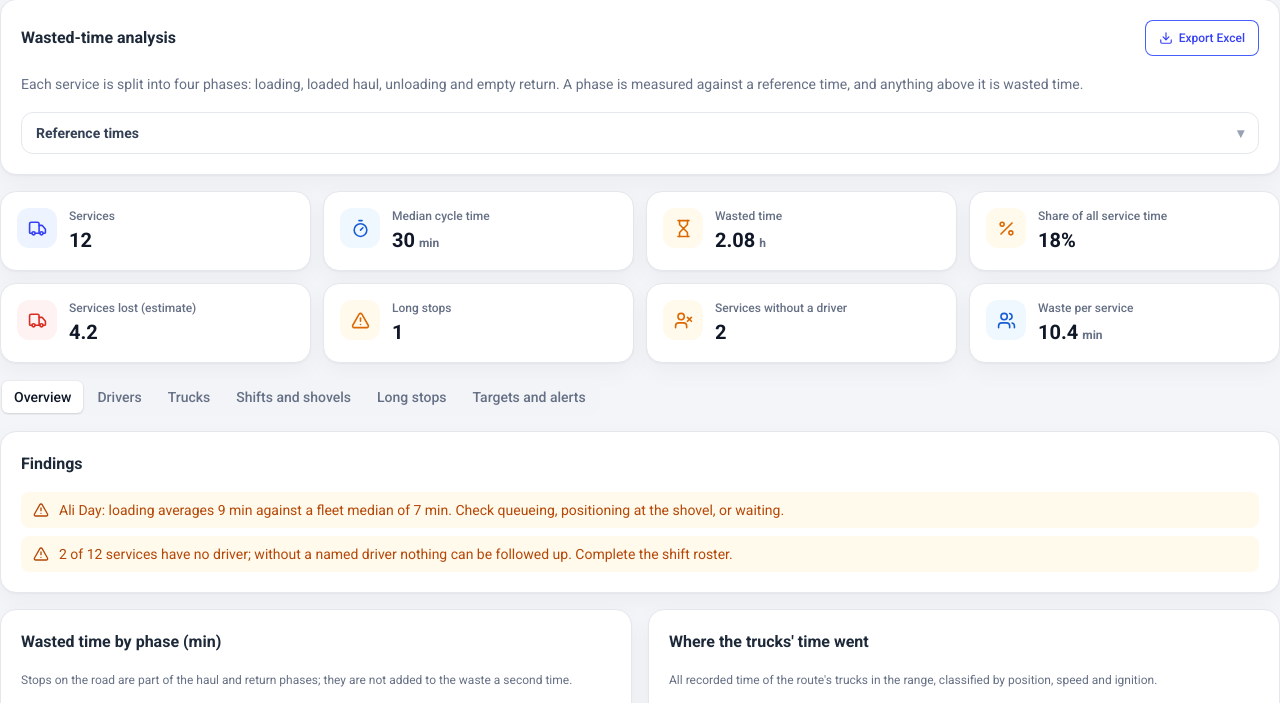
it: live over-limit alerts › suggests the p75 limits and shows what is already on
Click the radio button labelled "Targets and alerts" at coordinates (529, 397), box x1=460 y1=381 x2=598 y2=413
(page scrolled)
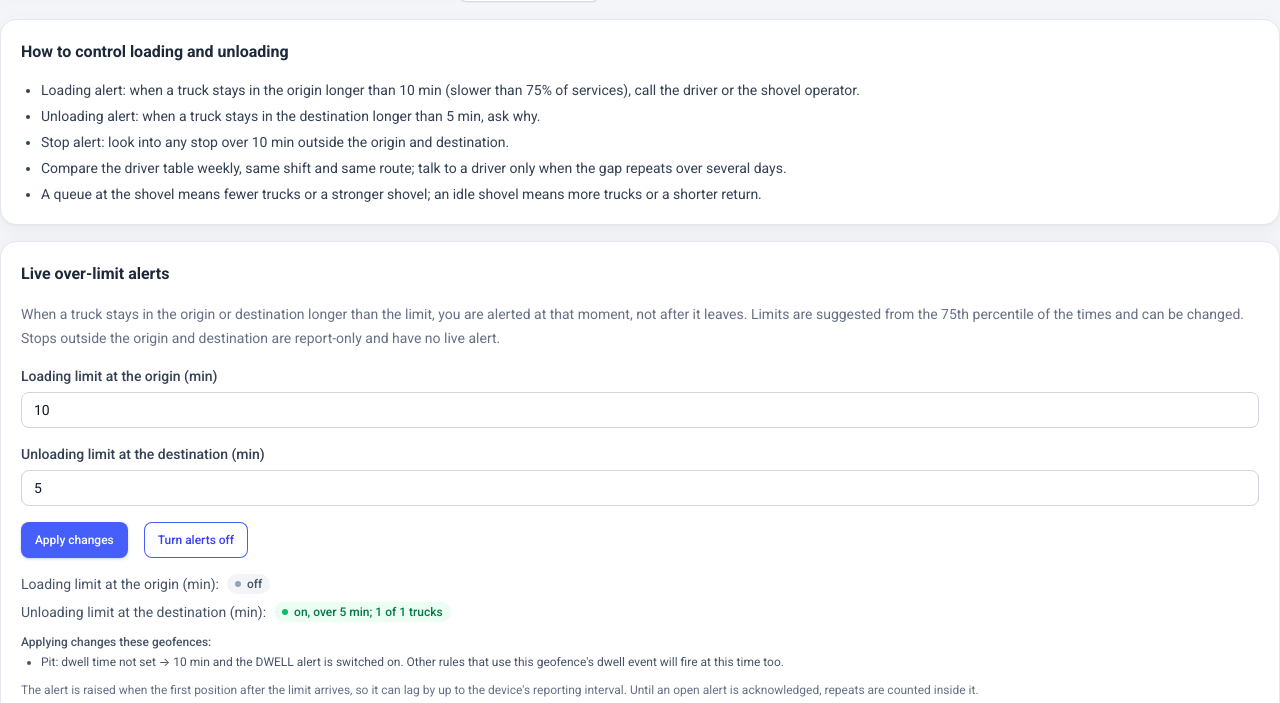
Expected: the number field with test id "alert-limit-load" holds "10", x1=21 y1=392 x2=1259 y2=428
Expected: the number field with test id "alert-limit-unload" holds "5", x1=21 y1=470 x2=1259 y2=506
Expected: the list with test id "alerts-status" shows "on, over 5 min; 1 of 1 trucks", x1=294 y1=605 x2=443 y2=619
